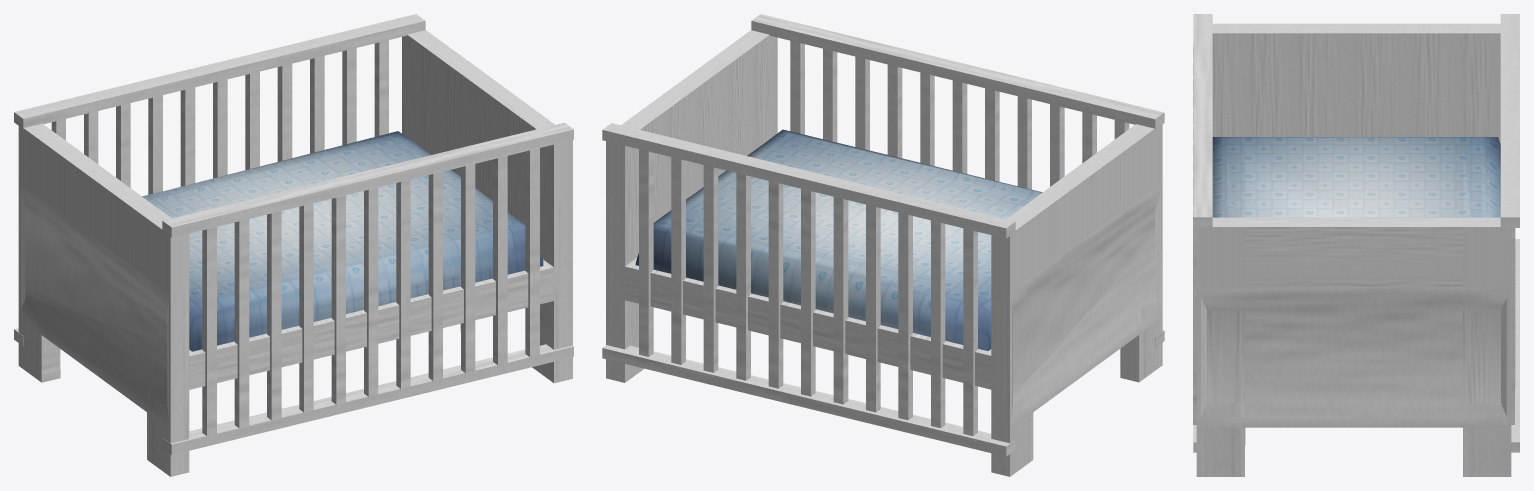
Rendered from Crib_B.FBX.
3 renders of one model, left to right at view 1: azimuth 30°, elevation 25°; view 2: azimuth 150°, elevation 25°; view 3: azimuth 270°, elevation 25°, orthographic. The views are drawn at different scales.
Visible parts, largest first — view 1: Crib; view 2: Crib; view 3: Crib.
Boxes of the visible parts, <box> form: Crib: <box>14,14,573,476</box>; Crib: <box>602,14,1164,476</box>; Crib: <box>1193,14,1519,476</box>.
Size of the model in its own units: 236 by 140 by 160.
